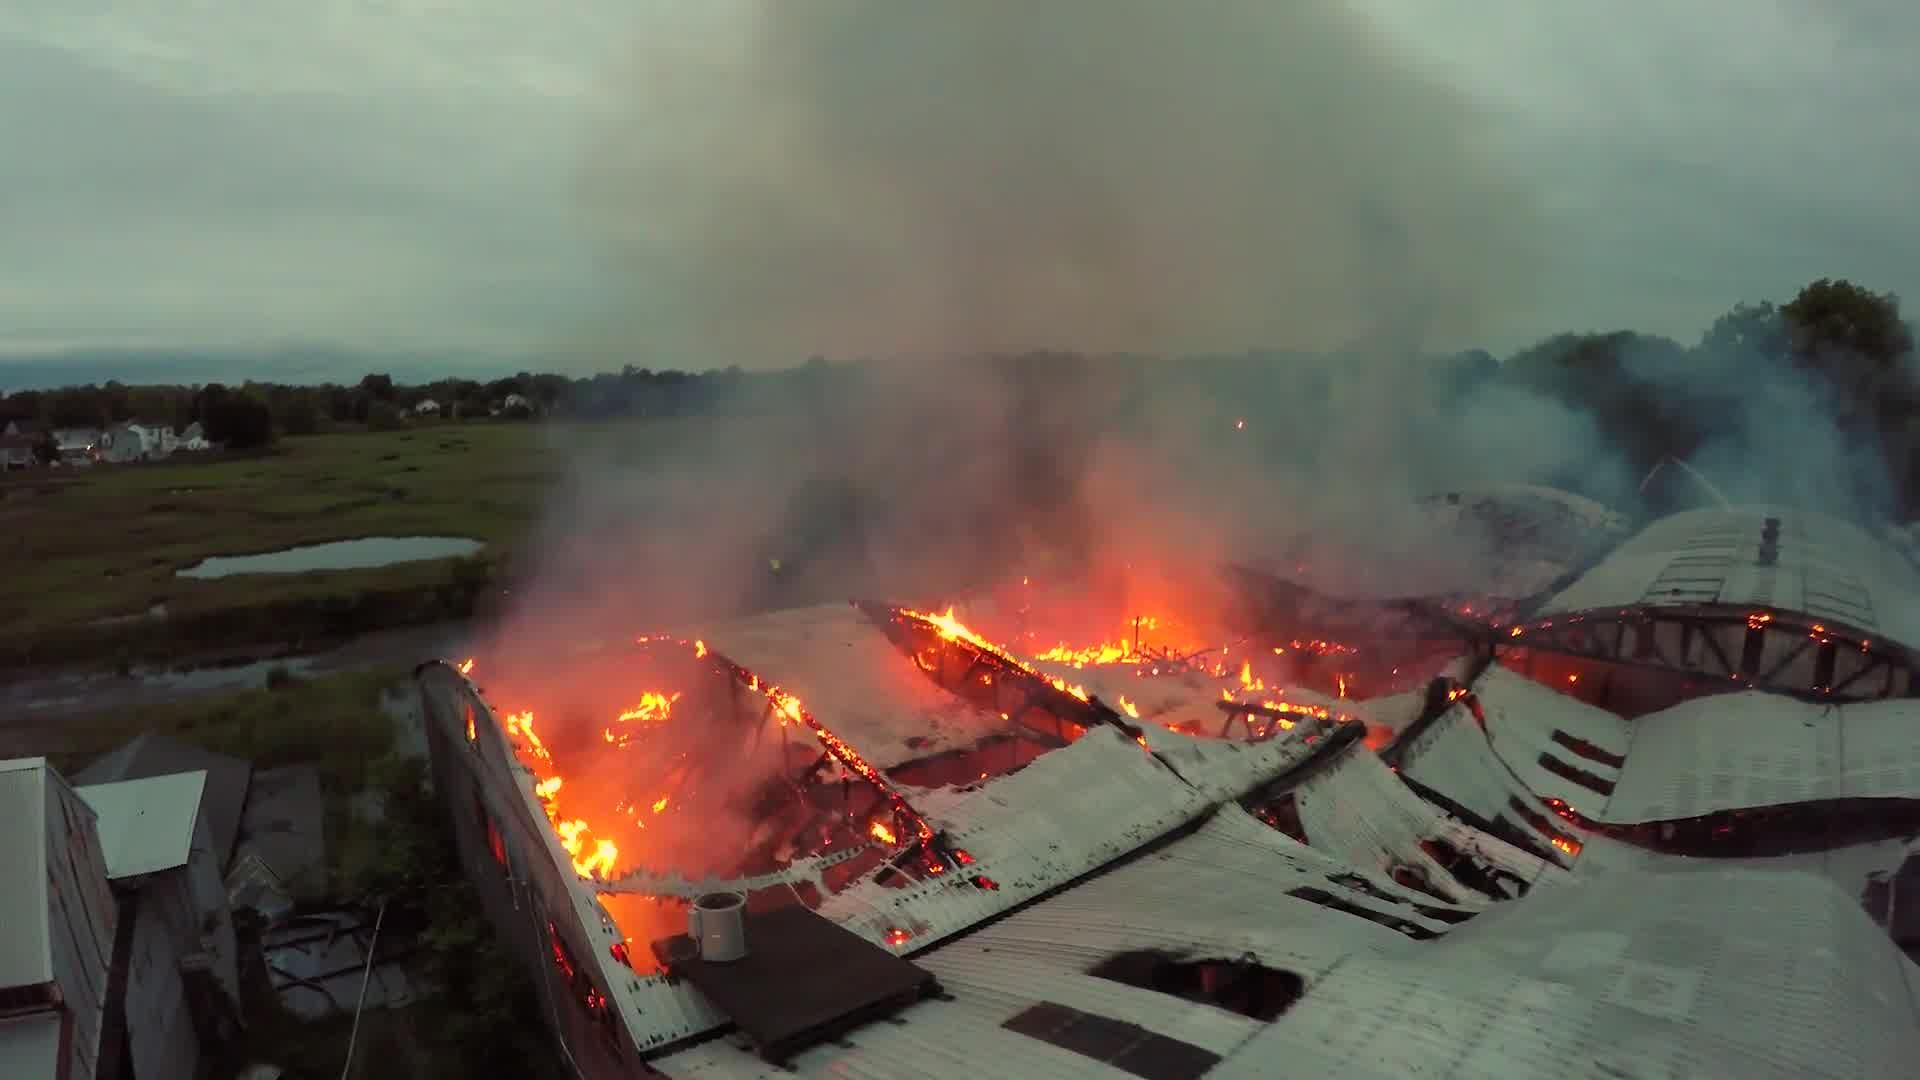fire: (500, 717, 608, 890), (922, 611, 990, 669), (1033, 646, 1146, 680)
smoke: (748, 26, 1414, 541)
